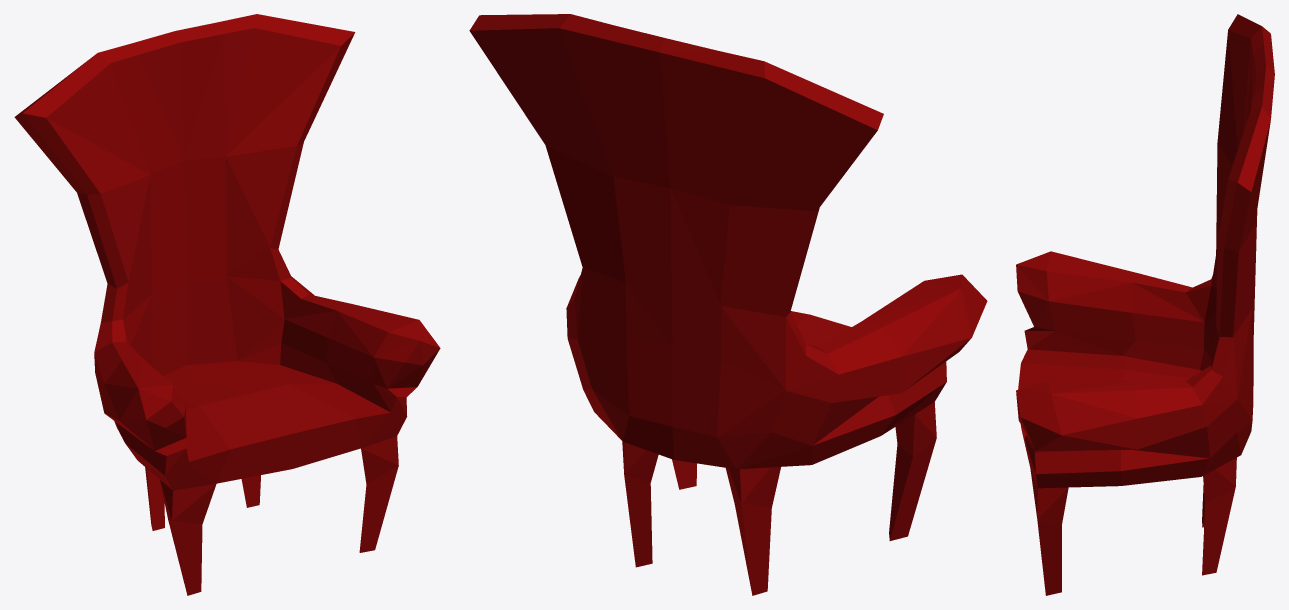
The model's file is matrix_chair.FBX.
3 renders of one model, left to right at view 1: azimuth 30°, elevation 25°; view 2: azimuth 150°, elevation 25°; view 3: azimuth 270°, elevation 25°, orthographic. The views are drawn at different scales.
Visible parts, largest first — view 1: 04___Default; view 2: 04___Default; view 3: 04___Default.
Part boxes in pixels (<box>): 04___Default: <box>14,14,440,595</box>; 04___Default: <box>469,14,987,595</box>; 04___Default: <box>1016,14,1274,595</box>.
Bounding box in the file's own units: 41.03 × 54.22 × 26.34.
